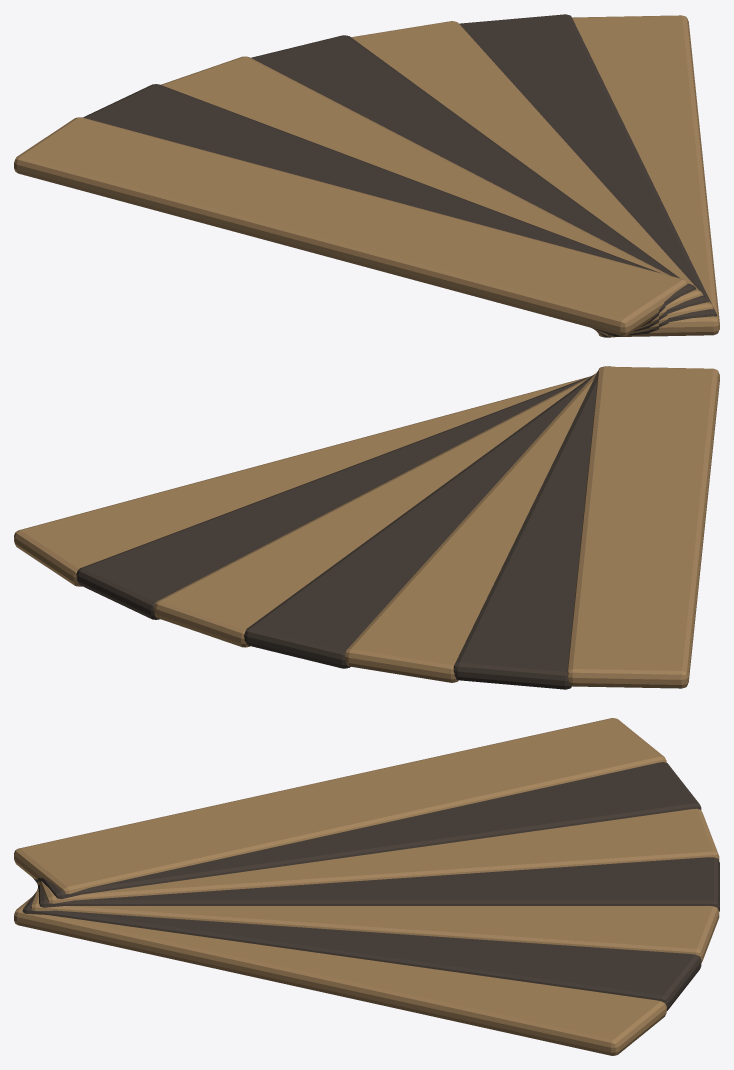
The model's file is SM_Keeper_Sokar_Tail.fbx.
3 views of the same model, one above another, from view 1: azimuth 30°, elevation 25°; view 2: azimuth 150°, elevation 25°; view 3: azimuth 270°, elevation 25° (orthographic). The views are drawn at different scales.
Visible parts, largest first — view 1: SM_Keeper_Sokar_Tail; view 2: SM_Keeper_Sokar_Tail; view 3: SM_Keeper_Sokar_Tail.
Boxes of the visible parts, <box> form: SM_Keeper_Sokar_Tail: <box>14,14,719,337</box>; SM_Keeper_Sokar_Tail: <box>14,366,719,689</box>; SM_Keeper_Sokar_Tail: <box>14,718,719,1055</box>.
Size of the model in its own units: 2.02 by 0.11 by 1.97.
